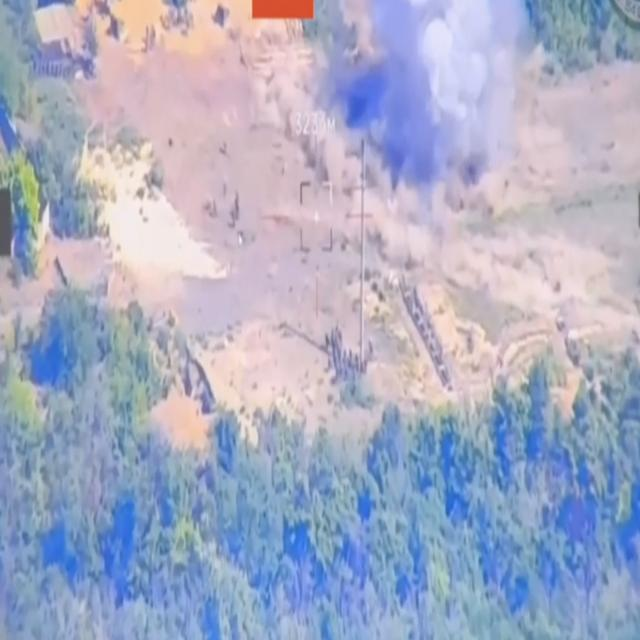infantry: (324, 331, 330, 352), (354, 353, 360, 374), (231, 210, 237, 230), (213, 198, 218, 221), (222, 179, 227, 201), (332, 348, 337, 369), (339, 330, 344, 349), (348, 347, 353, 365), (236, 188, 240, 208), (364, 356, 368, 375), (235, 199, 239, 218), (330, 329, 335, 343), (345, 365, 348, 388), (338, 349, 342, 364), (150, 34, 154, 49), (343, 347, 347, 361), (153, 30, 157, 44), (335, 320, 338, 337), (146, 24, 149, 41), (361, 359, 364, 374), (145, 37, 148, 52), (340, 362, 342, 381), (336, 337, 338, 354), (152, 22, 154, 39)
